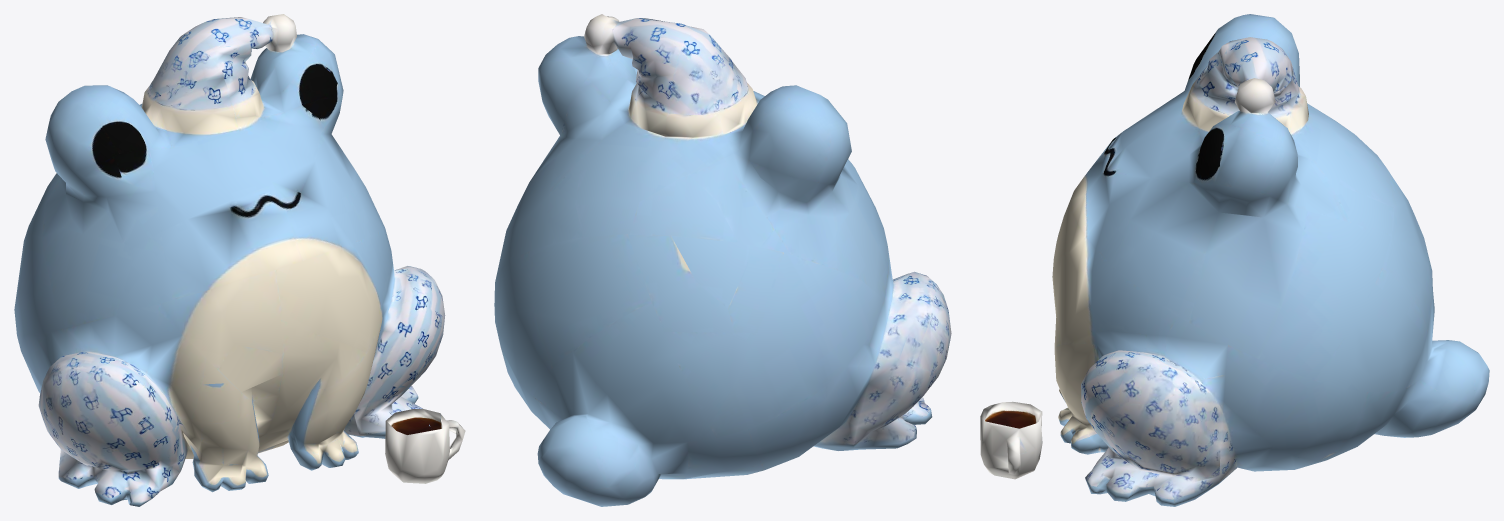
The model's file is matinale.glb.
3 views of the same model, side by side, from view 1: azimuth 30°, elevation 25°; view 2: azimuth 150°, elevation 25°; view 3: azimuth 270°, elevation 25° (orthographic). The views are drawn at different scales.
Visible parts, largest first — view 1: mesh_node; view 2: mesh_node; view 3: mesh_node.
Part boxes in pixels (x1,y1,x2,y2): mesh_node: (14,14,465,506); mesh_node: (494,14,951,506); mesh_node: (980,14,1489,506).
Bounding box in the file's own units: 1.69 × 1.61 × 1.9.
Materials: 1 (1 with a texture image).
